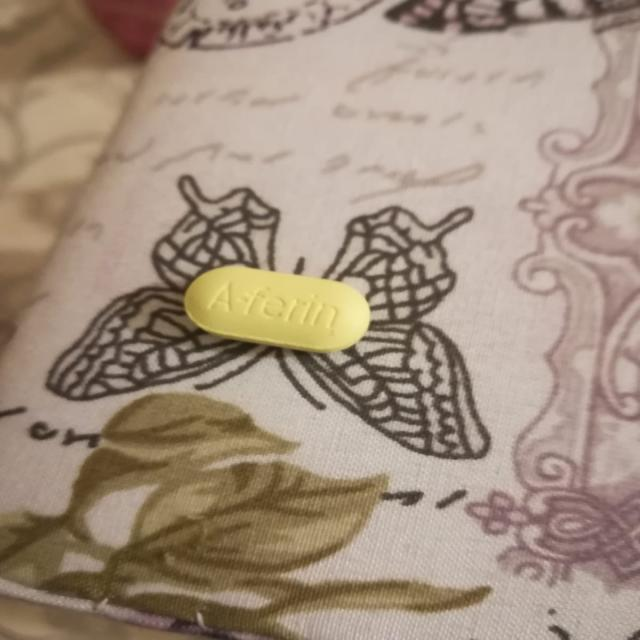pills: (175, 254, 376, 358)
